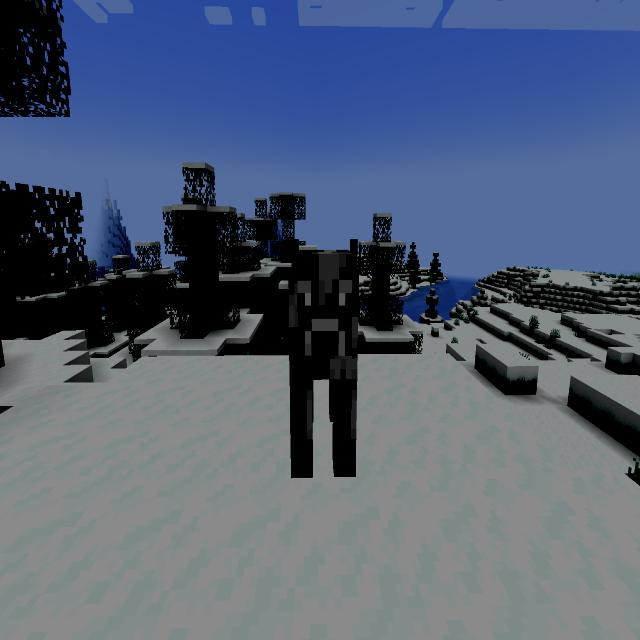cow: (274, 216, 371, 500)
